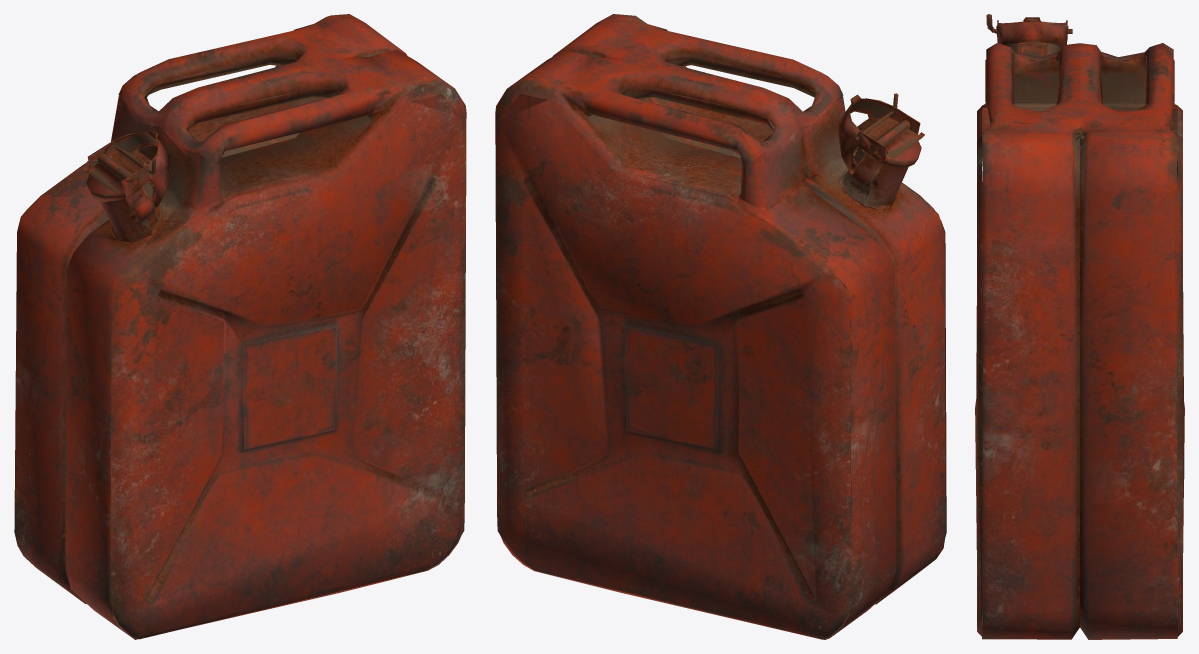
Rendered from metal_jerrycan_lod.glb.
3 views of the same model, side by side, from view 1: azimuth 30°, elevation 25°; view 2: azimuth 150°, elevation 25°; view 3: azimuth 270°, elevation 25° (orthographic). The views are drawn at different scales.
Visible parts, largest first — view 1: metal_jerrycan; view 2: metal_jerrycan; view 3: metal_jerrycan.
Boxes of the visible parts, x1,y1,x2,y2 form: metal_jerrycan: [14, 14, 466, 639]; metal_jerrycan: [495, 14, 946, 639]; metal_jerrycan: [975, 14, 1184, 639].
Bounding box in the file's own units: 0.3494 × 0.4545 × 0.1723.
Materials: 1 (1 with a texture image).
